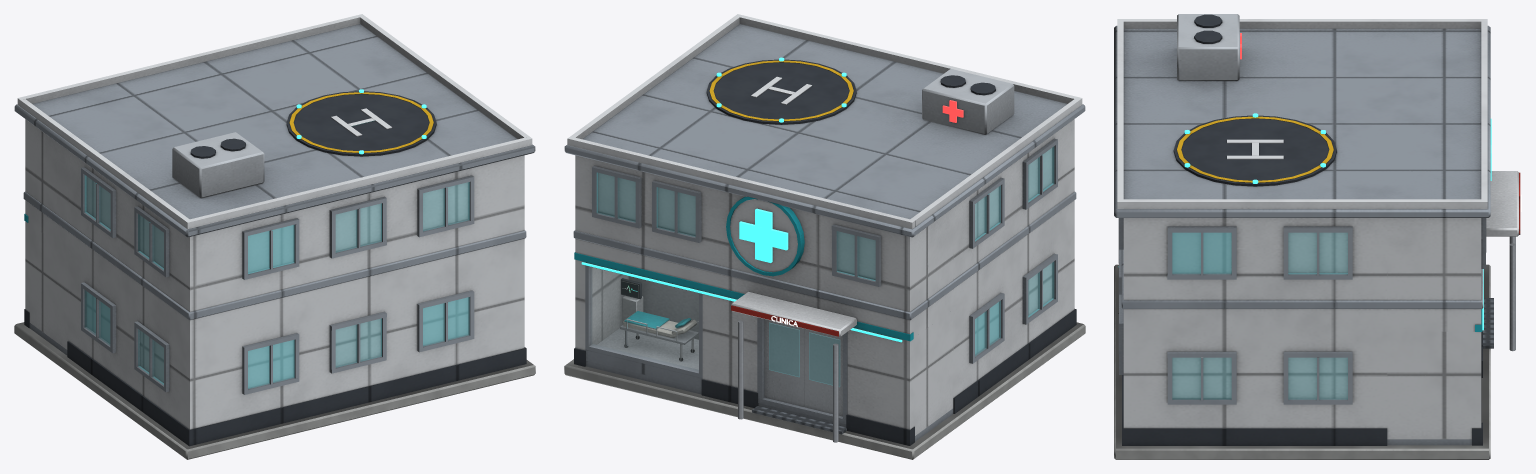
File: hospital_clinica.fbx
The picture shows the model from 3 angles, left to right: view 1: azimuth 30°, elevation 25°; view 2: azimuth 150°, elevation 25°; view 3: azimuth 270°, elevation 25°; orthographic projection. The views are drawn at different scales.
Visible parts, largest first — view 1: hospital_clinica, hospital_clinica_cristal; view 2: hospital_clinica, hospital_clinica_cristal, hospital_clinica_escaparate_cristal, hospital_clinica_puerta_izq, hospital_clinica_puerta_der, hospital_clinica_neon; view 3: hospital_clinica, hospital_clinica_cristal.
Part boxes in pixels (<box>): hospital_clinica: <box>14,14,535,459</box>; hospital_clinica_cristal: <box>84,175,469,388</box>; hospital_clinica: <box>564,14,1085,459</box>; hospital_clinica_cristal: <box>596,146,1054,386</box>; hospital_clinica_escaparate_cristal: <box>590,267,698,371</box>; hospital_clinica_puerta_izq: <box>764,319,804,406</box>; hospital_clinica_puerta_der: <box>805,329,842,416</box>; hospital_clinica_neon: <box>581,57,902,342</box>; hospital_clinica: <box>1114,14,1520,459</box>; hospital_clinica_cristal: <box>1172,232,1347,399</box>.
Bounding box in the file's own units: 14 × 10.07 × 12.99.
Materials: 4 (4 with a texture image).
